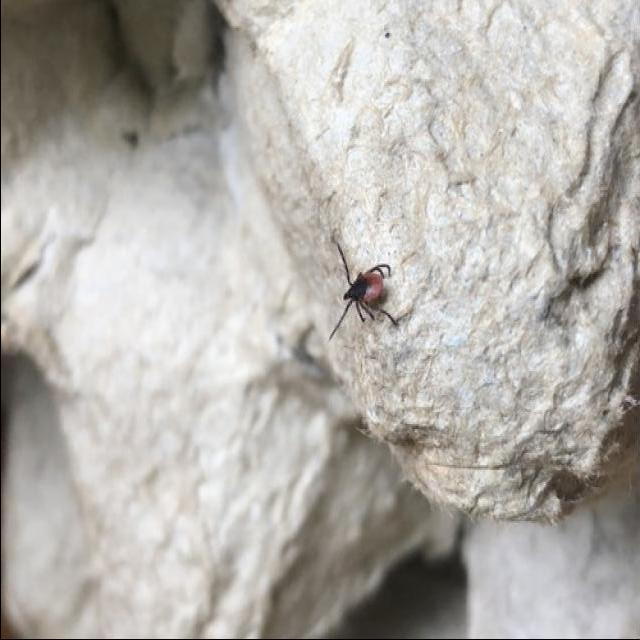Ixodes Ricinus-F: (329, 239, 398, 340)
